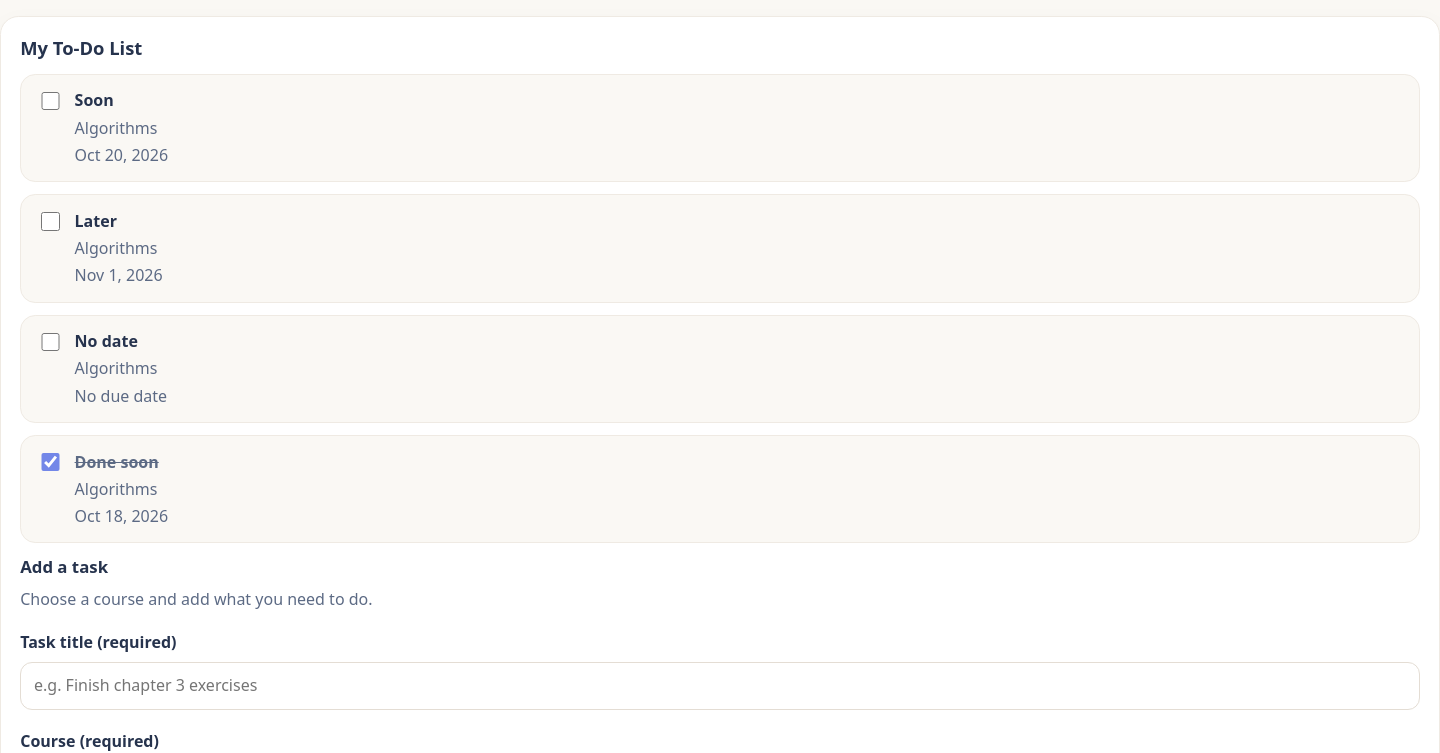
Test case: dashboard task list › keeps the previous completion state when the update fails
Click the checkbox named "Mark complete: Soon": (50, 101) [41,92,60,110]
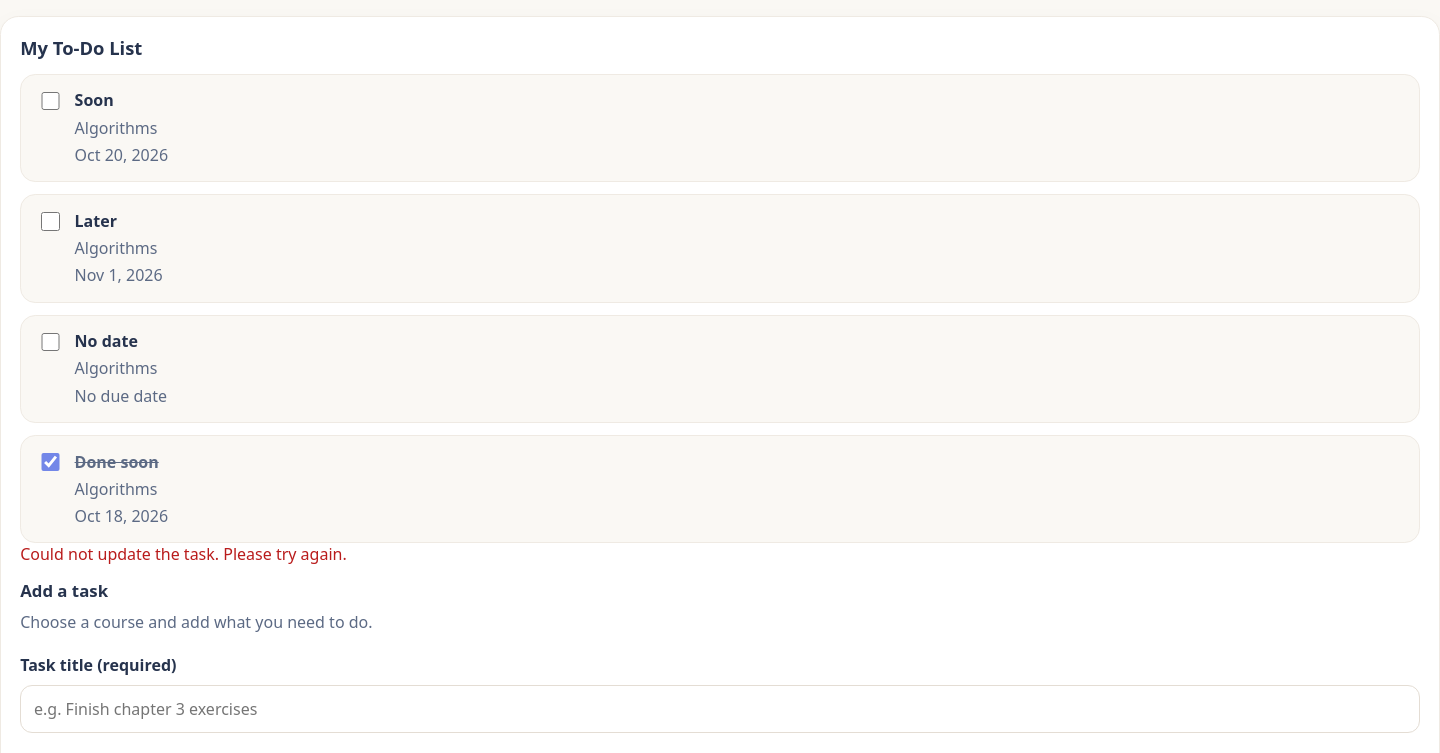
Expected: the list item "Soon Algorithms Oct 20, 2026" is shown, [20,74,1420,182]
Expected: the message reads "Could not update the task. Please try again.", [20,544,347,566]
